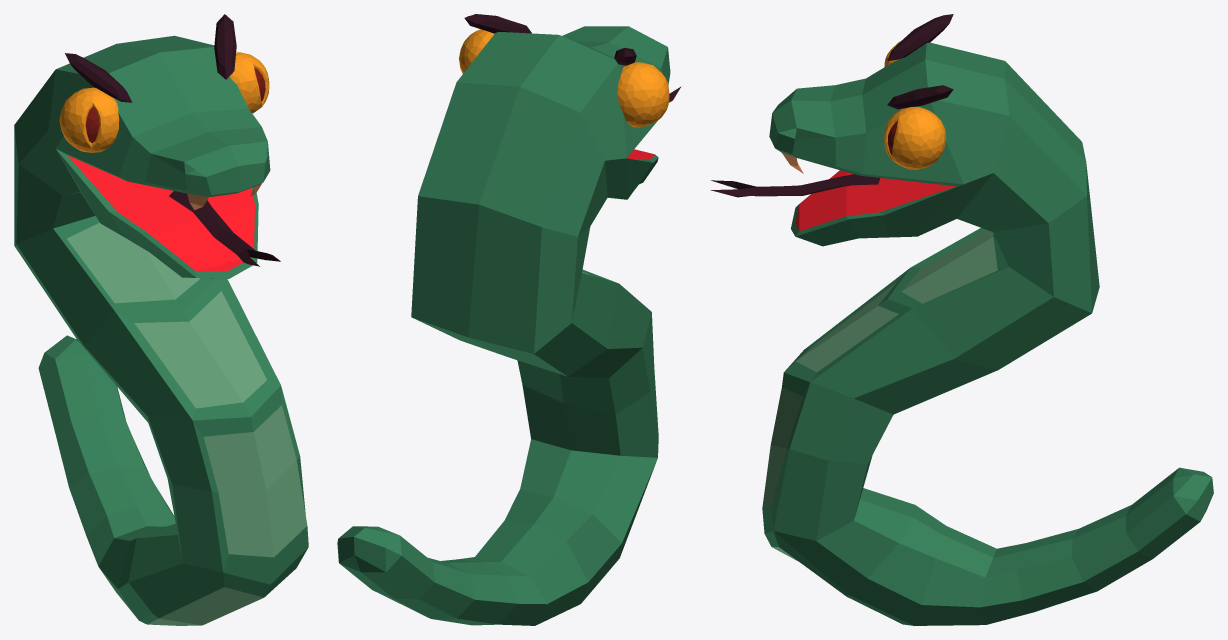
Rendered from Snake_Angry_000003.obj.
The picture shows the model from 3 angles, left to right: view 1: azimuth 30°, elevation 25°; view 2: azimuth 150°, elevation 25°; view 3: azimuth 270°, elevation 25°; orthographic projection. The views are drawn at different scales.
Parts seen in each view (by area): view 1: Snake_Cylinder; view 2: Snake_Cylinder; view 3: Snake_Cylinder.
Part boxes in pixels (box(x1,y1,x2,y2)): Snake_Cylinder: box(14, 14, 308, 625); Snake_Cylinder: box(337, 14, 681, 625); Snake_Cylinder: box(710, 14, 1213, 625).
Bounding box in the file's own units: 1.05 × 2.89 × 2.36.
